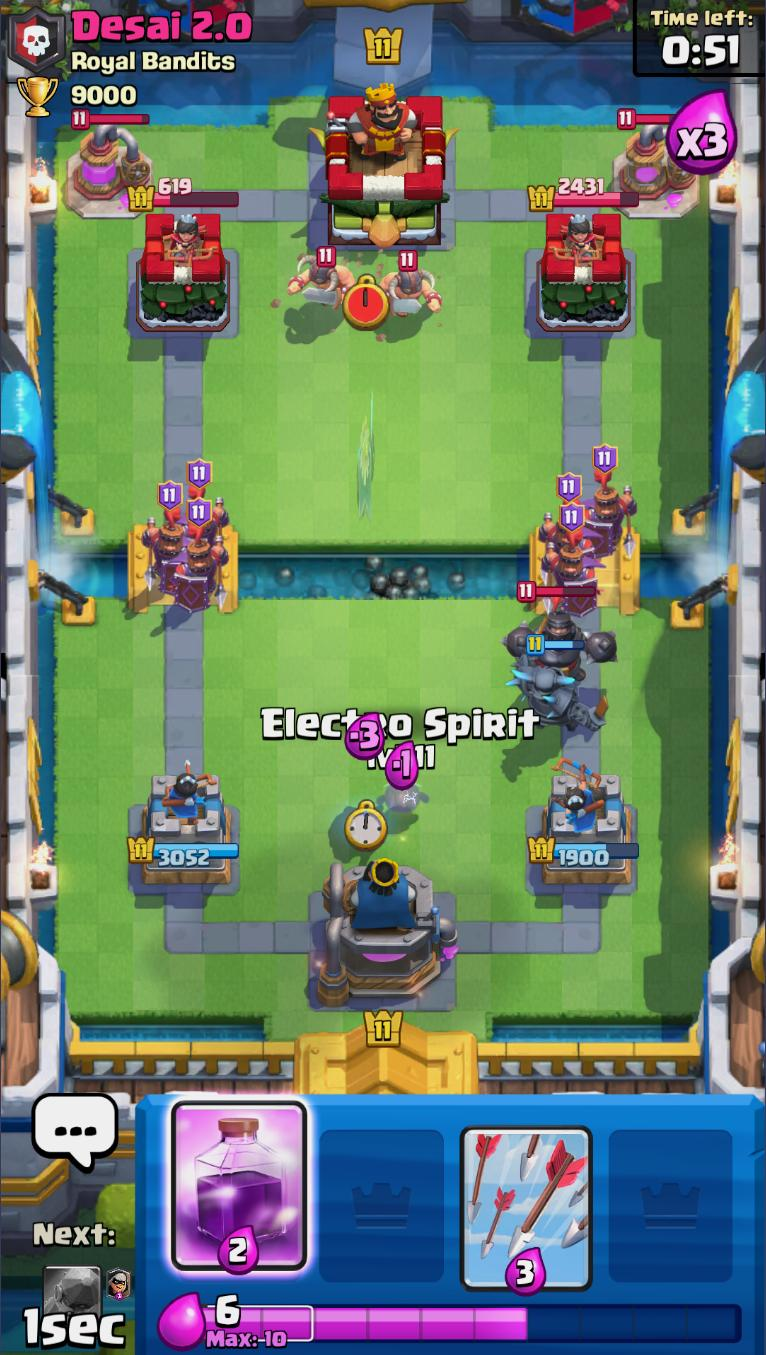ArrowDeck: (456, 1094, 598, 1295)
BattleRamNext: (40, 1264, 105, 1344)
EliteBarbarian: (374, 250, 443, 323), (286, 247, 355, 312)
Elixir: (203, 1295, 744, 1350)
ElixirCollector: (63, 108, 156, 221), (612, 109, 702, 221)
Empty: (599, 1094, 744, 1296), (311, 1095, 455, 1296)
EnemyTower: (533, 208, 631, 331), (133, 210, 229, 335)
EvoRoyalRecruit: (573, 444, 637, 567), (539, 502, 603, 622), (138, 480, 197, 602), (170, 498, 230, 614), (536, 471, 597, 565), (176, 458, 230, 549)
KingTower: (308, 82, 456, 248)
MegaKnight: (501, 581, 619, 669)
MyKingTower: (319, 856, 458, 1009)
MyPekka: (511, 634, 611, 737)
MyPrincessTower: (524, 771, 639, 887), (125, 769, 238, 887)
MyPrincessTowerHP: (125, 836, 238, 868), (525, 835, 637, 867)
PrincessTower: (546, 213, 603, 264), (144, 214, 200, 264)
RageDeck: (167, 1095, 310, 1296)
TowerPrincessHP: (126, 178, 239, 213), (526, 178, 639, 212)
